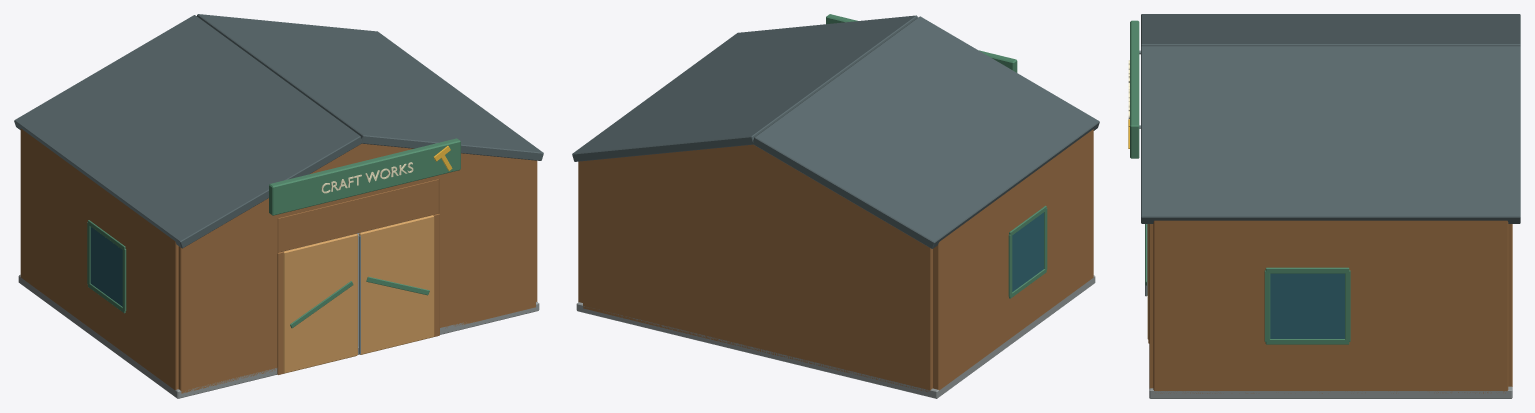
File: CraftWorks.glb
The picture shows the model from 3 angles, left to right: view 1: azimuth 30°, elevation 25°; view 2: azimuth 150°, elevation 25°; view 3: azimuth 270°, elevation 25°; orthographic projection. The views are drawn at different scales.
Visible parts, largest first — view 1: FTF_Building_FarmTown_ArtisanWorkshop_9x7m_Mesh; view 2: FTF_Building_FarmTown_ArtisanWorkshop_9x7m_Mesh; view 3: FTF_Building_FarmTown_ArtisanWorkshop_9x7m_Mesh.
Boxes of the visible parts, x1,y1,x2,y2 form: FTF_Building_FarmTown_ArtisanWorkshop_9x7m_Mesh: (14, 14, 543, 398); FTF_Building_FarmTown_ArtisanWorkshop_9x7m_Mesh: (572, 14, 1099, 398); FTF_Building_FarmTown_ArtisanWorkshop_9x7m_Mesh: (1128, 14, 1520, 398).
Bounding box in the file's own units: 9.31 × 5.39 × 7.57.
